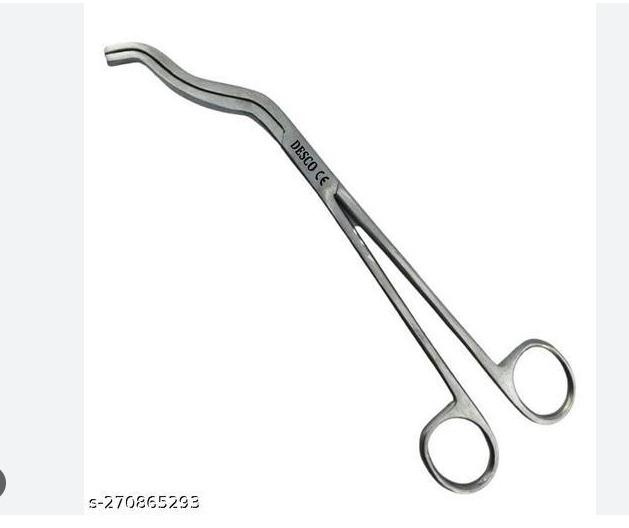Cheatle Forceps: (93, 35, 582, 502)
